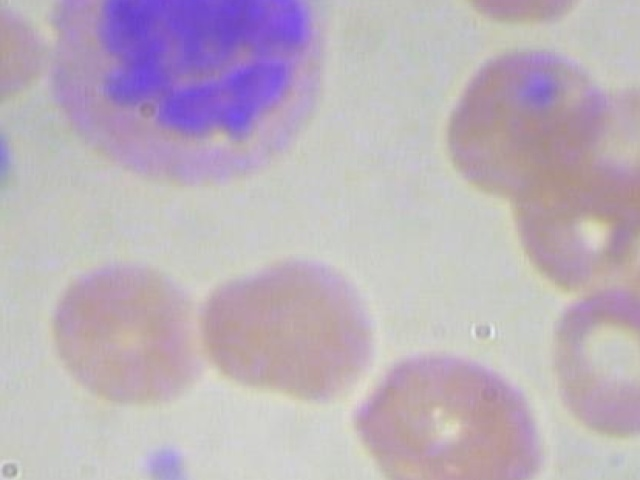Platelets: (133, 443, 195, 480), (0, 115, 19, 193)
RBC: (34, 250, 214, 415), (198, 250, 378, 415), (438, 39, 617, 204), (342, 341, 551, 480), (543, 278, 640, 438), (0, 0, 58, 118), (438, 0, 617, 37)
WBC: (40, 0, 351, 196)
